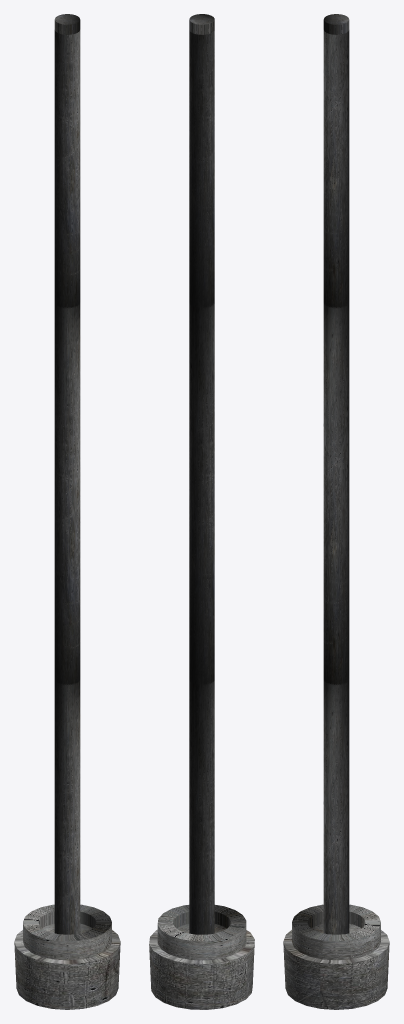
Rendered from poste.obj.
3 views of the same model, side by side, from view 1: azimuth 90°, elevation 25°; view 2: azimuth 150°, elevation 25°; view 3: azimuth 270°, elevation 25° (orthographic).
Visible parts, largest first — view 1: poste:pCylinder29Flag1; view 2: poste:pCylinder29Flag1; view 3: poste:pCylinder29Flag1.
Part boxes in pixels (x1,y1,x2,y2): poste:pCylinder29Flag1: [14, 14, 120, 1009]; poste:pCylinder29Flag1: [149, 14, 254, 1009]; poste:pCylinder29Flag1: [283, 14, 389, 1009].
Bounding box in the file's own units: 1.38 × 13.88 × 1.38.
Materials: 1 (1 with a texture image).
